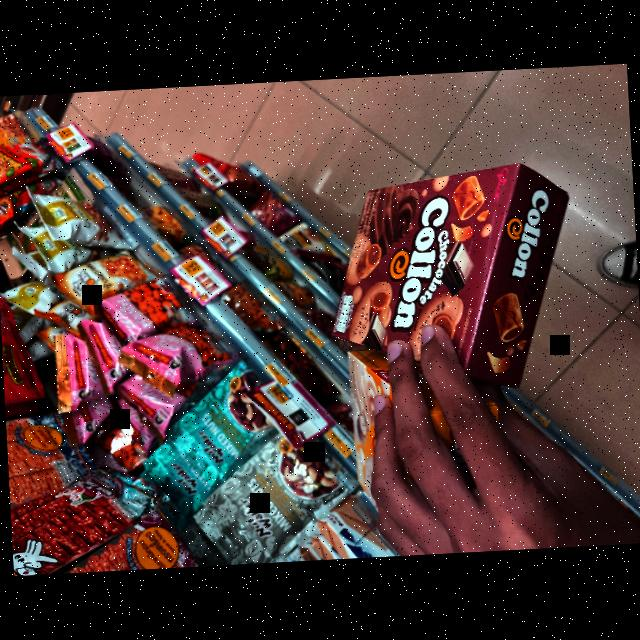cardboard_box: (316, 150, 578, 399)
